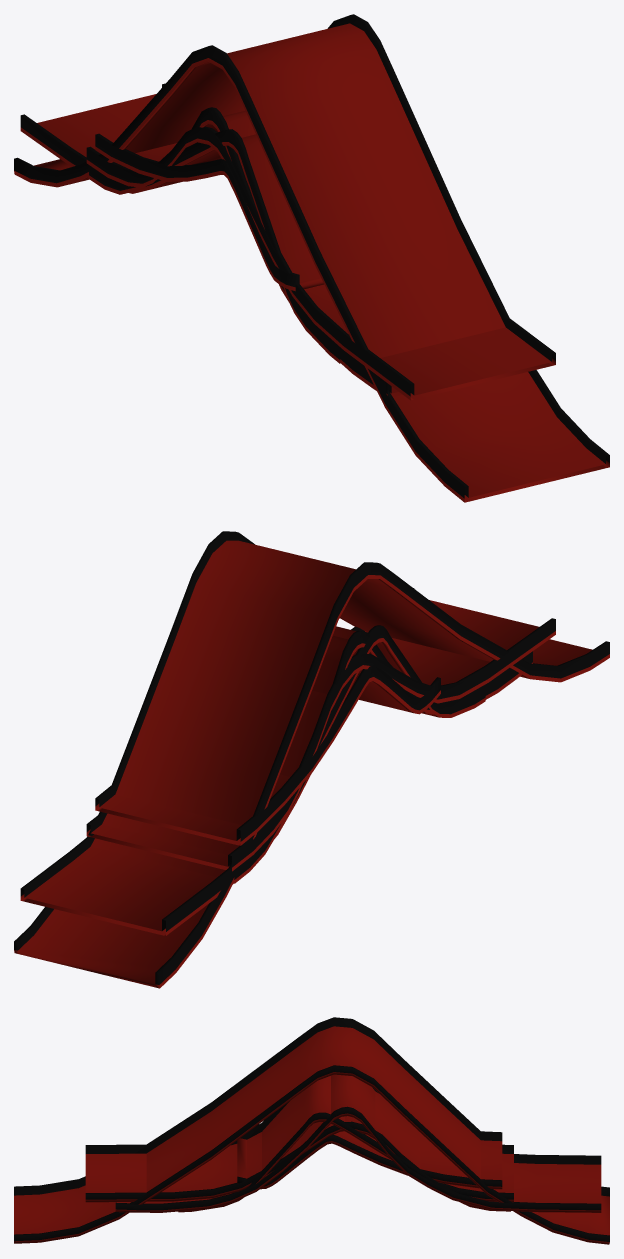
Rendered from Rampasss 1.fbx.
3 renders of one model, top to bottom at view 1: azimuth 30°, elevation 25°; view 2: azimuth 150°, elevation 25°; view 3: azimuth 270°, elevation 25°, orthographic. The views are drawn at different scales.
Parts seen in each view (by area): view 1: Cube.001, Cube.002, Cube.003, Cube.004, Cube.005; view 2: Cube.001, Cube.003, Cube.002, Cube.005, Cube.004; view 3: Cube.001, Cube.002, Cube.003, Cube.005, Cube.004.
Part boxes in pixels (box(x1,y1,x2,y2)): Cube.001: box(14, 14, 609, 502); Cube.002: box(86, 126, 555, 400); Cube.003: box(20, 83, 402, 396); Cube.004: box(89, 129, 340, 363); Cube.005: box(95, 133, 323, 291); Cube.001: box(14, 531, 609, 988); Cube.003: box(20, 630, 532, 935); Cube.002: box(86, 588, 555, 871); Cube.005: box(95, 665, 440, 845); Cube.004: box(92, 625, 485, 883); Cube.001: box(14, 1017, 609, 1244); Cube.002: box(85, 1091, 513, 1202); Cube.003: box(115, 1074, 601, 1212); Cube.005: box(237, 1131, 502, 1189); Cube.004: box(178, 1076, 510, 1212).
Size of the model in its own units: 1856 by 3331 by 9968.
